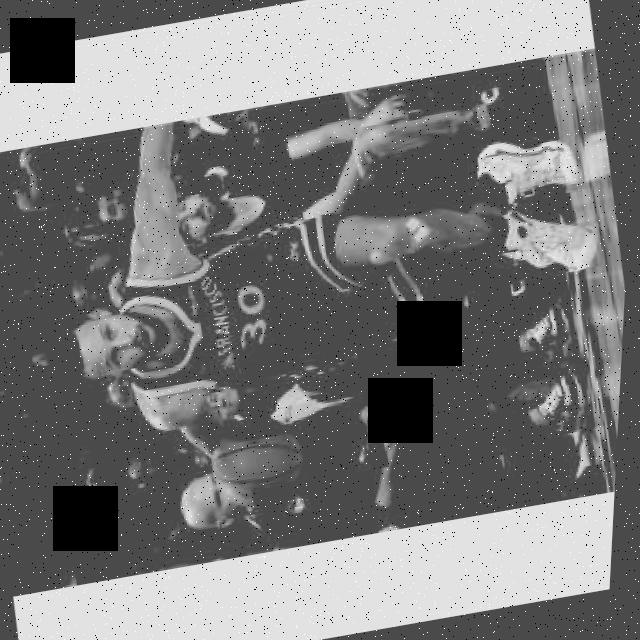shoe: (489, 196, 604, 282), (473, 128, 590, 208), (531, 364, 597, 438), (519, 294, 580, 366)
